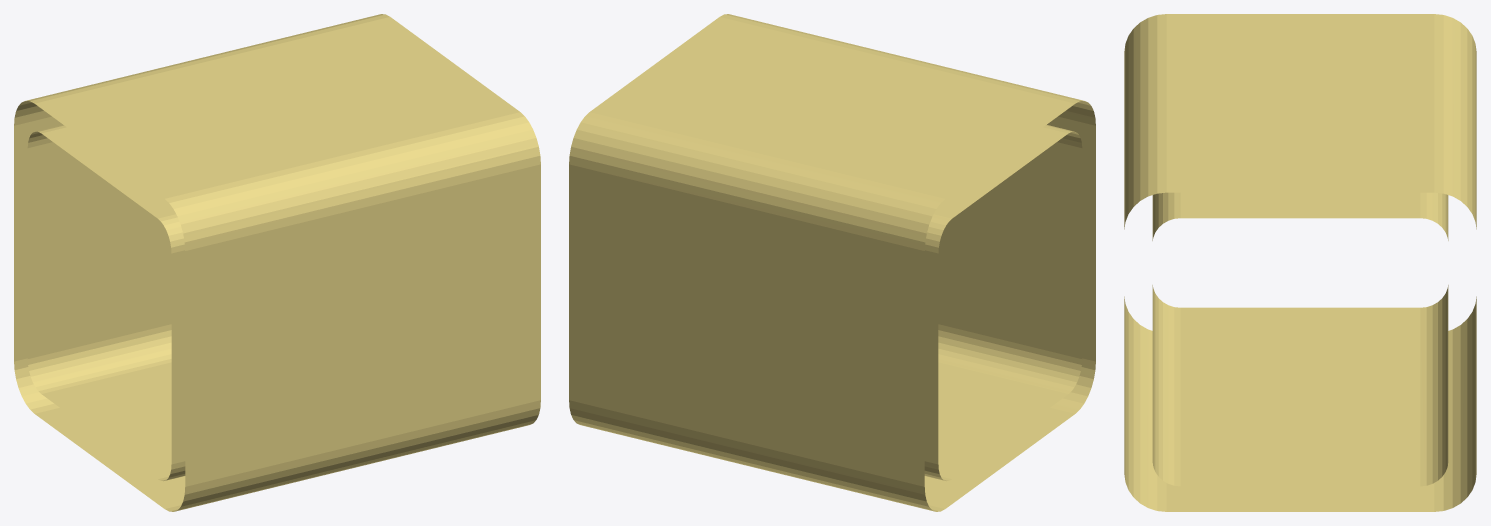
File: RailLeft_15.obj
3 renders of one model, left to right at view 1: azimuth 30°, elevation 25°; view 2: azimuth 150°, elevation 25°; view 3: azimuth 270°, elevation 25°, orthographic. The views are drawn at different scales.
Visible parts, largest first — view 1: RailLeft_15_14; view 2: RailLeft_15_14; view 3: RailLeft_15_14.
Part boxes in pixels (box(x1,y1,x2,y2)): RailLeft_15_14: box(14, 14, 540, 511); RailLeft_15_14: box(569, 14, 1095, 511); RailLeft_15_14: box(1124, 14, 1476, 511).
Bounding box in the file's own units: 0.03 × 0.025 × 0.025.
